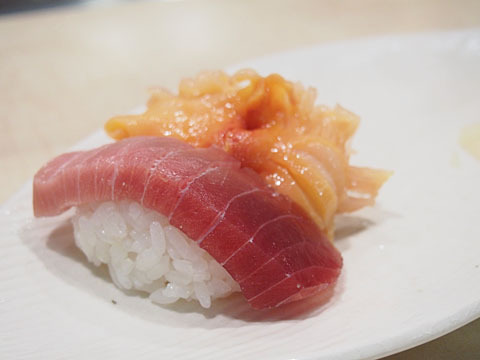medium_fatty_tuna: (33, 140, 333, 316)
